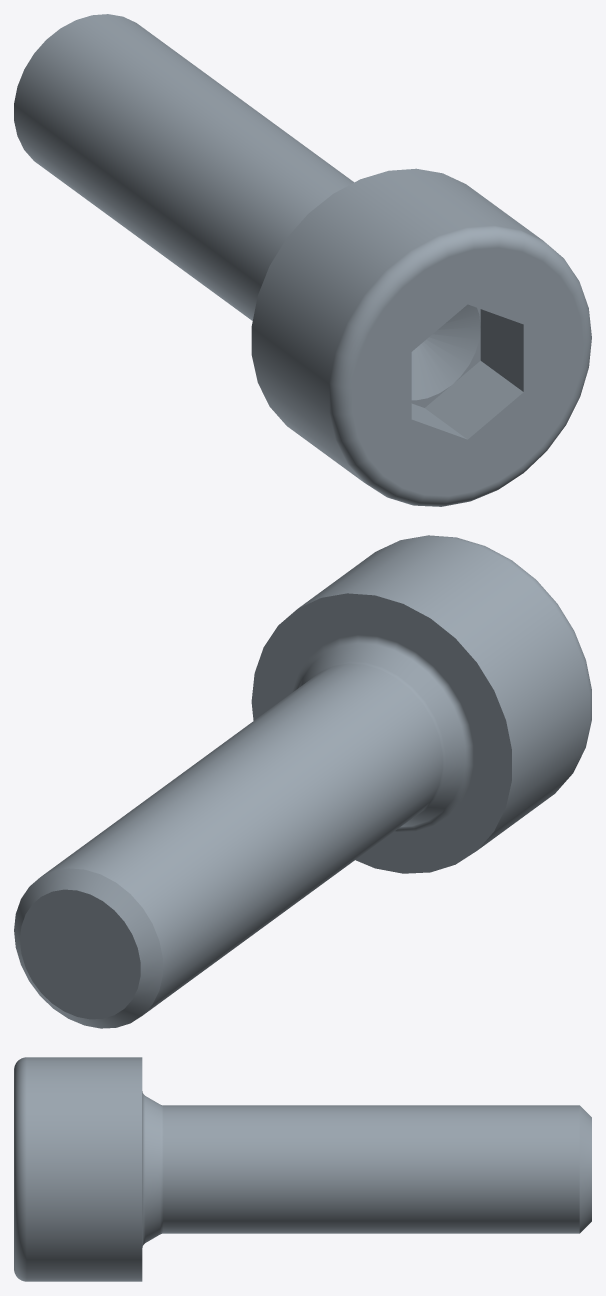
The model's file is Hex_socket_head_cap_screw_M4x0_70_x_14.obj.
The picture shows the model from 3 angles, top to bottom: view 1: azimuth 30°, elevation 25°; view 2: azimuth 150°, elevation 25°; view 3: azimuth 270°, elevation 25°; orthographic projection. The views are drawn at different scales.
Parts seen in each view (by area): view 1: mesh17, mesh24, mesh22, mesh23, mesh32, mesh30, mesh25; view 2: mesh17, mesh22, mesh21, mesh15, mesh16, mesh19, mesh20, mesh23, mesh18; view 3: mesh17, mesh22, mesh23, mesh19, mesh16, mesh20, mesh18.
Boxes of the visible parts, x1=… form: mesh17: x1=14, y1=14, x2=353, y2=320; mesh24: x1=352, y1=248, x2=583, y2=495; mesh22: x1=251, y1=168, x2=542, y2=481; mesh23: x1=329, y1=225, x2=591, y2=506; mesh32: x1=411, y1=304, x2=480, y2=400; mesh30: x1=425, y1=360, x2=523, y2=439; mesh25: x1=480, y1=309, x2=523, y2=391; mesh17: x1=41, y1=664, x2=442, y2=1014; mesh22: x1=298, y1=536, x2=589, y2=850; mesh21: x1=251, y1=593, x2=511, y2=873; mesh15: x1=20, y1=889, x2=140, y2=1019; mesh16: x1=14, y1=868, x2=162, y2=1028; mesh19: x1=299, y1=643, x2=464, y2=826; mesh20: x1=292, y1=635, x2=473, y2=832; mesh23: x1=384, y1=535, x2=591, y2=793; mesh18: x1=312, y1=661, x2=445, y2=818; mesh17: x1=163, y1=1105, x2=579, y2=1233; mesh22: x1=27, y1=1057, x2=142, y2=1281; mesh23: x1=14, y1=1057, x2=26, y2=1281; mesh19: x1=145, y1=1096, x2=160, y2=1242; mesh16: x1=579, y1=1105, x2=591, y2=1233; mesh20: x1=142, y1=1091, x2=145, y2=1247; mesh18: x1=160, y1=1104, x2=163, y2=1234.
Size of the model in its own units: 0.00698 by 0.00699 by 0.018.
